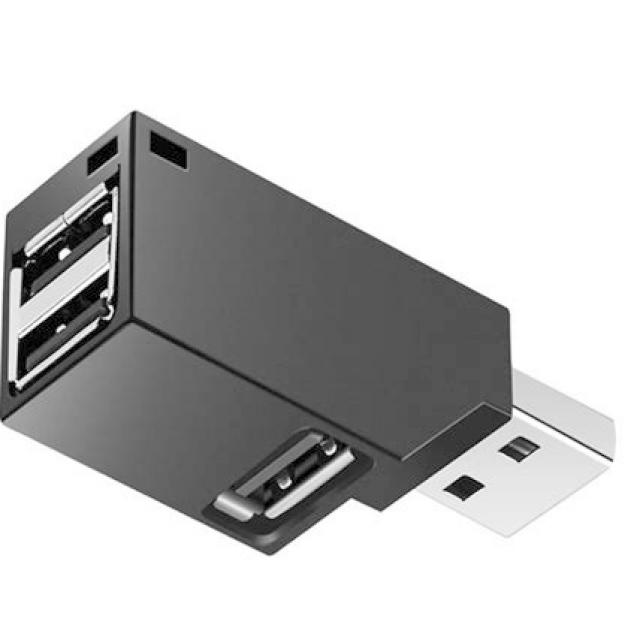usb port: (190, 432, 366, 529), (15, 281, 112, 393), (21, 202, 112, 308)
